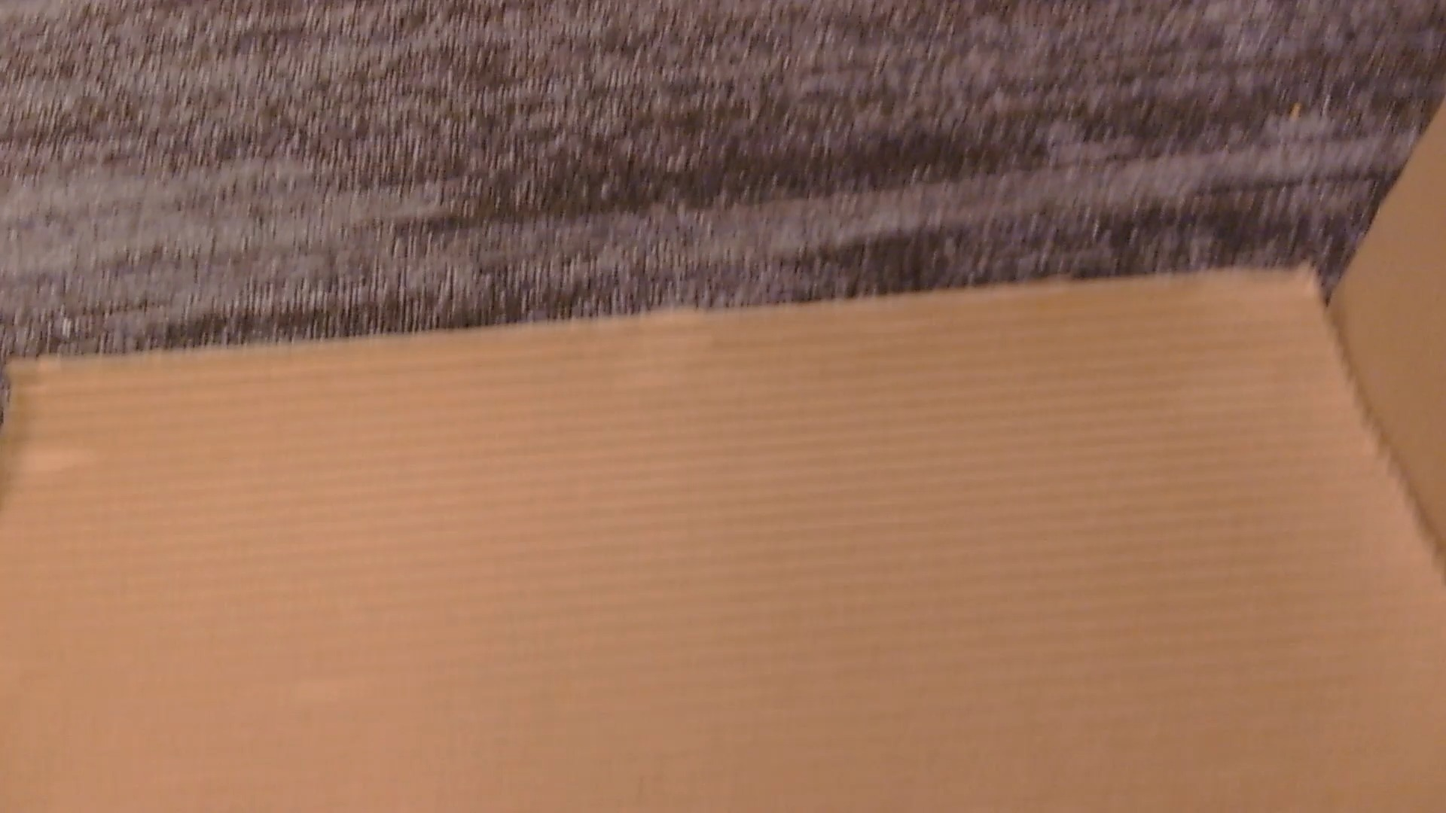Ramp: (0, 123, 1445, 812)
